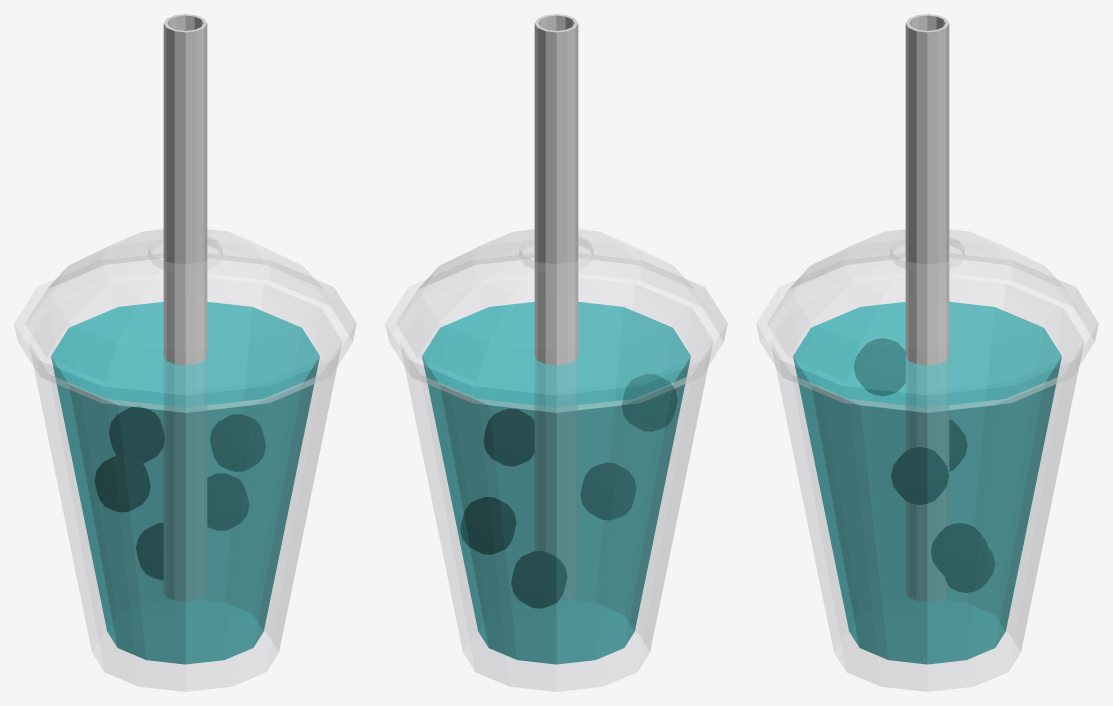
Rendered from Cup_Tea.fbx.
3 views of the same model, side by side, from view 1: azimuth 30°, elevation 25°; view 2: azimuth 150°, elevation 25°; view 3: azimuth 270°, elevation 25° (orthographic).
Visible parts, largest first — view 1: Cup, Tea, Straw, Sphere, Sphere.001, Sphere.003, Sphere.002, Sphere.004; view 2: Cup, Tea, Straw, Sphere.003, Sphere.002, Sphere.004, Sphere.001, Sphere; view 3: Cup, Tea, Straw, Sphere.002, Sphere, Sphere.001, Sphere.004, Sphere.003.
Boxes of the visible parts, box(x1,y1,x2,y2) form: Cup: box(14, 229, 356, 691); Tea: box(51, 302, 319, 664); Straw: box(163, 14, 207, 601); Sphere: box(210, 414, 265, 471); Sphere.001: box(109, 407, 164, 463); Sphere.003: box(95, 455, 150, 511); Sphere.002: box(207, 473, 248, 530); Sphere.004: box(136, 523, 163, 579); Cup: box(385, 229, 727, 691); Tea: box(422, 302, 690, 664); Straw: box(534, 14, 578, 601); Sphere.003: box(580, 463, 635, 519); Sphere.002: box(460, 497, 515, 554); Sphere.004: box(511, 551, 566, 608); Sphere.001: box(622, 374, 677, 431); Sphere: box(483, 409, 534, 465); Cup: box(756, 229, 1098, 691); Tea: box(793, 302, 1061, 664); Straw: box(905, 14, 949, 601); Sphere.002: box(931, 523, 988, 580); Sphere: box(891, 447, 948, 504); Sphere.001: box(854, 338, 905, 395); Sphere.004: box(945, 548, 994, 592); Sphere.003: box(949, 420, 967, 470).
Size of the model in its own units: 94.18 by 191 by 94.18.
